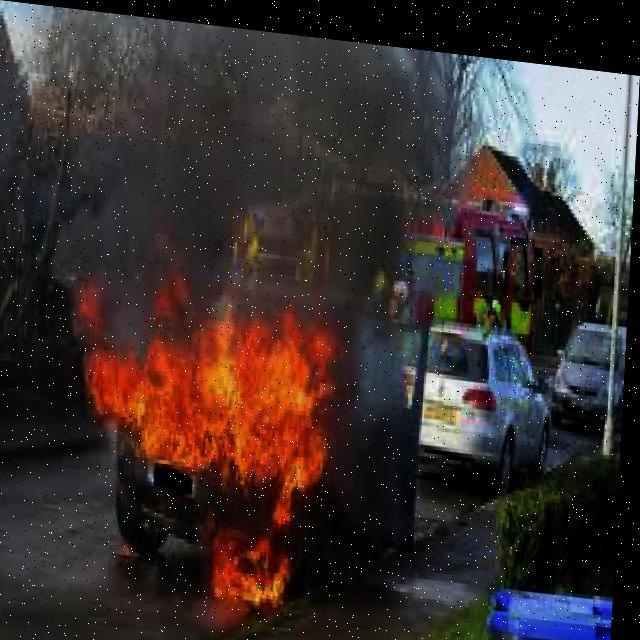Fire: (63, 267, 351, 533)
